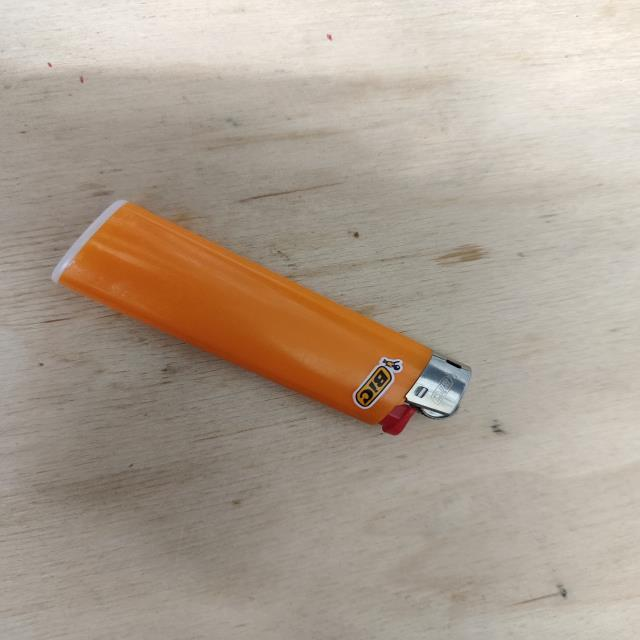lighter: (53, 201, 469, 435)
